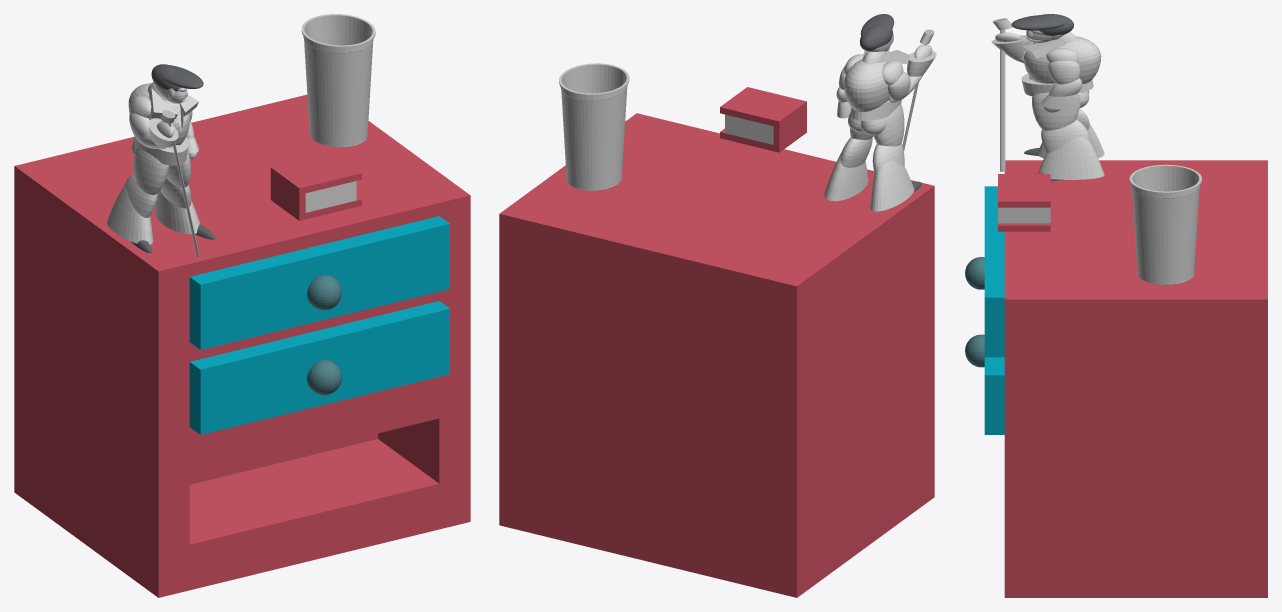
File: Grand Kasi.glb
3 renders of one model, left to right at view 1: azimuth 30°, elevation 25°; view 2: azimuth 150°, elevation 25°; view 3: azimuth 270°, elevation 25°, orthographic. The views are drawn at different scales.
Parts seen in each view (by area): view 1: Mesh_Mesh_head_geo.001_lambert2SG.001; view 2: Mesh_Mesh_head_geo.001_lambert2SG.001; view 3: Mesh_Mesh_head_geo.001_lambert2SG.001.
Part boxes in pixels (x1=…): Mesh_Mesh_head_geo.001_lambert2SG.001: x1=14, y1=14, x2=470, y2=597; Mesh_Mesh_head_geo.001_lambert2SG.001: x1=499, y1=14, x2=936, y2=597; Mesh_Mesh_head_geo.001_lambert2SG.001: x1=965, y1=14, x2=1267, y2=597.
Size of the model in its own units: 51 by 77 by 46.
